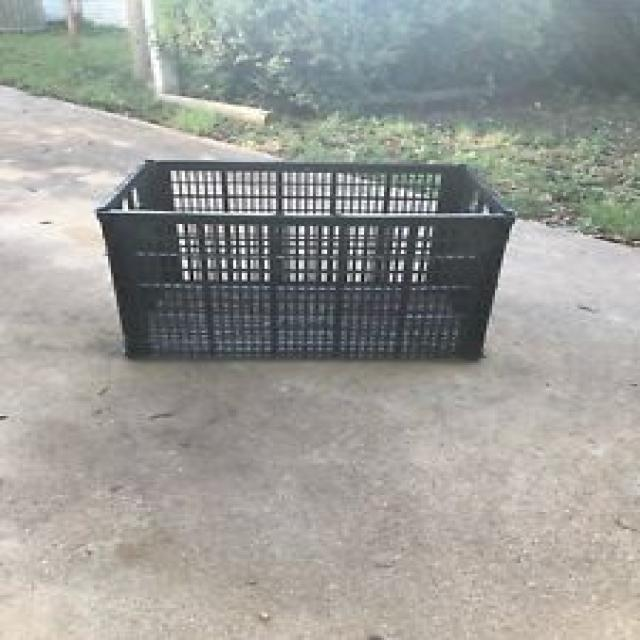basket: (97, 159, 516, 364)
